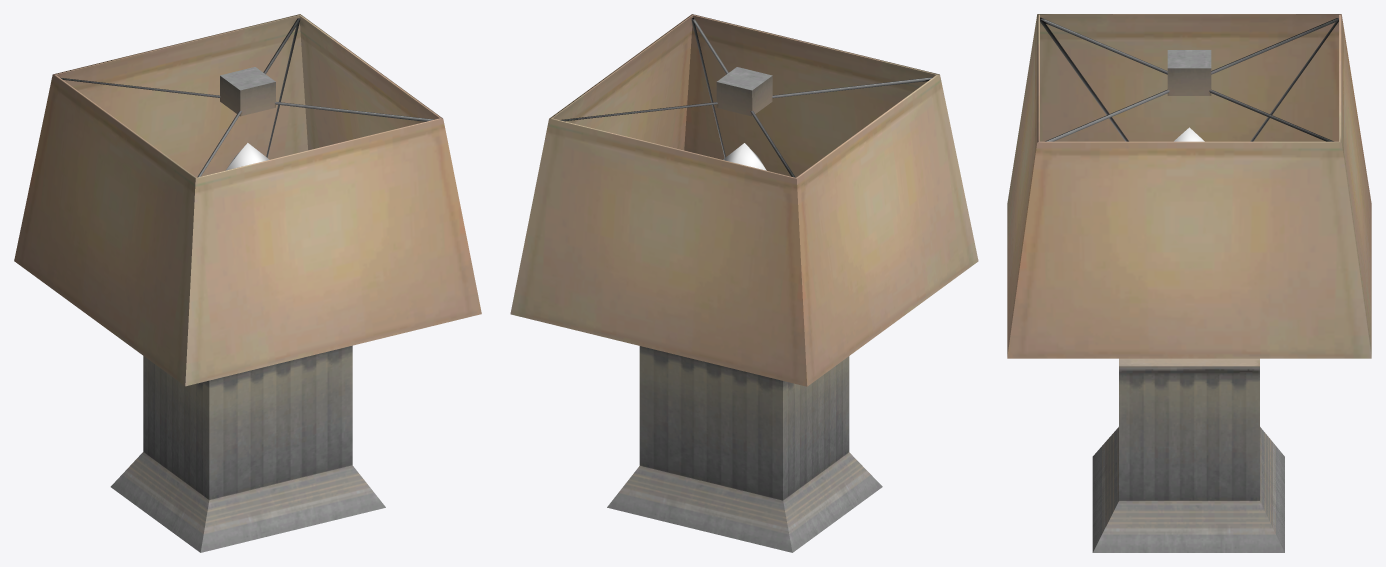
File: furniture_lamp_table2_1_lod1.glb
3 views of the same model, side by side, from view 1: azimuth 30°, elevation 25°; view 2: azimuth 150°, elevation 25°; view 3: azimuth 270°, elevation 25° (orthographic). The views are drawn at different scales.
Parts seen in each view (by area): view 1: surf0; view 2: surf0; view 3: surf0.
Boxes of the visible parts, x1=… form: surf0: x1=14, y1=14, x2=481, y2=552; surf0: x1=510, y1=14, x2=978, y2=552; surf0: x1=1007, y1=14, x2=1371, y2=552.
Bounding box in the file's own units: 16.32 × 22 × 16.32.
